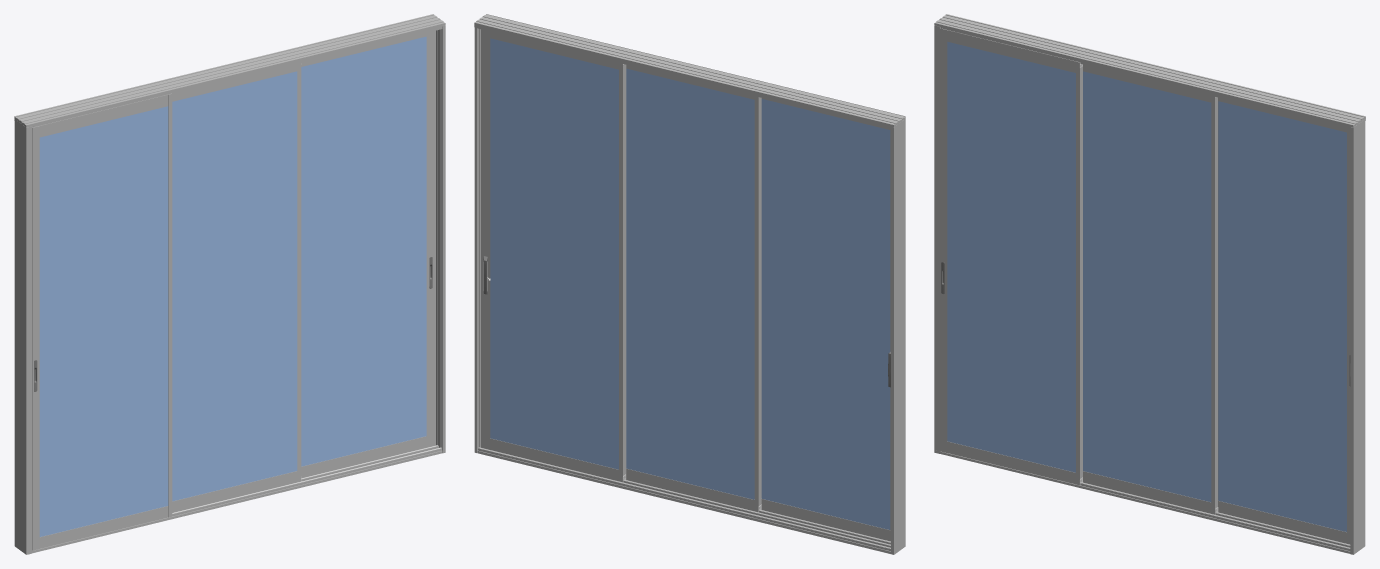
Rendered from Sliding Glass (3).glb.
The picture shows the model from 3 angles, left to right: view 1: azimuth 30°, elevation 25°; view 2: azimuth 150°, elevation 25°; view 3: azimuth 330°, elevation 25°; orthographic projection.
Visible parts, largest first — view 1: 3DGeom-18, 3DGeom-4, 3DGeom-8, 3DGeom-15, 3DGeom-20, 3DGeom-10, 3DGeom-2; view 2: 3DGeom-18, 3DGeom-4, 3DGeom-8, 3DGeom-15, 3DGeom-10, 3DGeom-2, 3DGeom-20, 3DGeom-16; view 3: 3DGeom-18, 3DGeom-8, 3DGeom-4, 3DGeom-15, 3DGeom-20, 3DGeom-2, 3DGeom-10.
Part boxes in pixels (x1=…): 3DGeom-18: x1=39, y1=106, x2=168, y2=536; 3DGeom-4: x1=172, y1=71, x2=297, y2=501; 3DGeom-8: x1=301, y1=36, x2=426, y2=466; 3DGeom-15: x1=14, y1=14, x2=445, y2=554; 3DGeom-20: x1=32, y1=93, x2=172, y2=550; 3DGeom-10: x1=301, y1=31, x2=434, y2=478; 3DGeom-2: x1=172, y1=63, x2=301, y2=512; 3DGeom-18: x1=761, y1=99, x2=890, y2=529; 3DGeom-4: x1=626, y1=68, x2=754, y2=499; 3DGeom-8: x1=490, y1=38, x2=618, y2=469; 3DGeom-15: x1=474, y1=14, x2=905, y2=554; 3DGeom-10: x1=482, y1=30, x2=625, y2=482; 3DGeom-2: x1=626, y1=64, x2=761, y2=511; 3DGeom-20: x1=761, y1=98, x2=890, y2=541; 3DGeom-16: x1=478, y1=447, x2=890, y2=548; 3DGeom-18: x1=947, y1=41, x2=1075, y2=472; 3DGeom-8: x1=1218, y1=101, x2=1346, y2=531; 3DGeom-4: x1=1083, y1=71, x2=1211, y2=501; 3DGeom-15: x1=934, y1=14, x2=1365, y2=554; 3DGeom-20: x1=939, y1=28, x2=1082, y2=485; 3DGeom-2: x1=1083, y1=64, x2=1217, y2=514; 3DGeom-10: x1=1218, y1=97, x2=1350, y2=544.
Bounding box in the file's own units: 2.71 × 2.65 × 0.1389.
